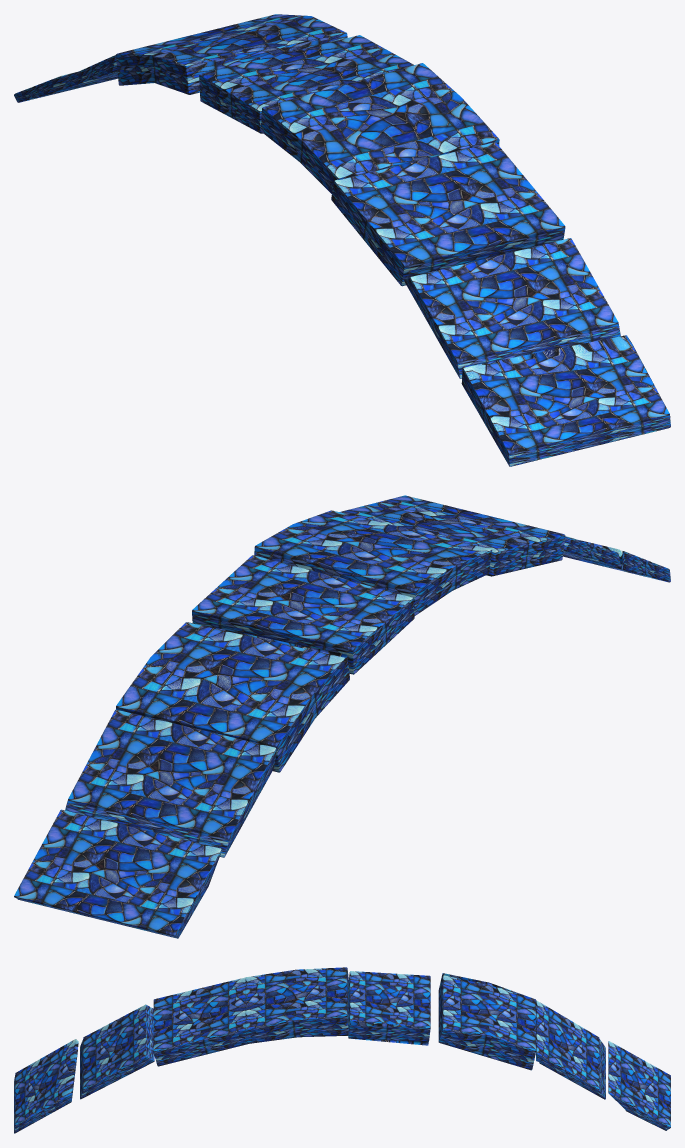
File: bridgeWholeGlass_lowPolyCompressed.glb
3 views of the same model, one above another, from view 1: azimuth 30°, elevation 25°; view 2: azimuth 150°, elevation 25°; view 3: azimuth 270°, elevation 25° (orthographic). The views are drawn at different scales.
Visible parts, largest first — view 1: Mesh_168.018; view 2: Mesh_168.018; view 3: Mesh_168.018.
Boxes of the visible parts, box(x1,y1,x2,y2) form: Mesh_168.018: box(14, 14, 670, 466); Mesh_168.018: box(14, 495, 670, 938); Mesh_168.018: box(14, 967, 670, 1133).
Size of the model in its own units: 0.7706 by 0.8033 by 4.
1 material, 1 textured.
